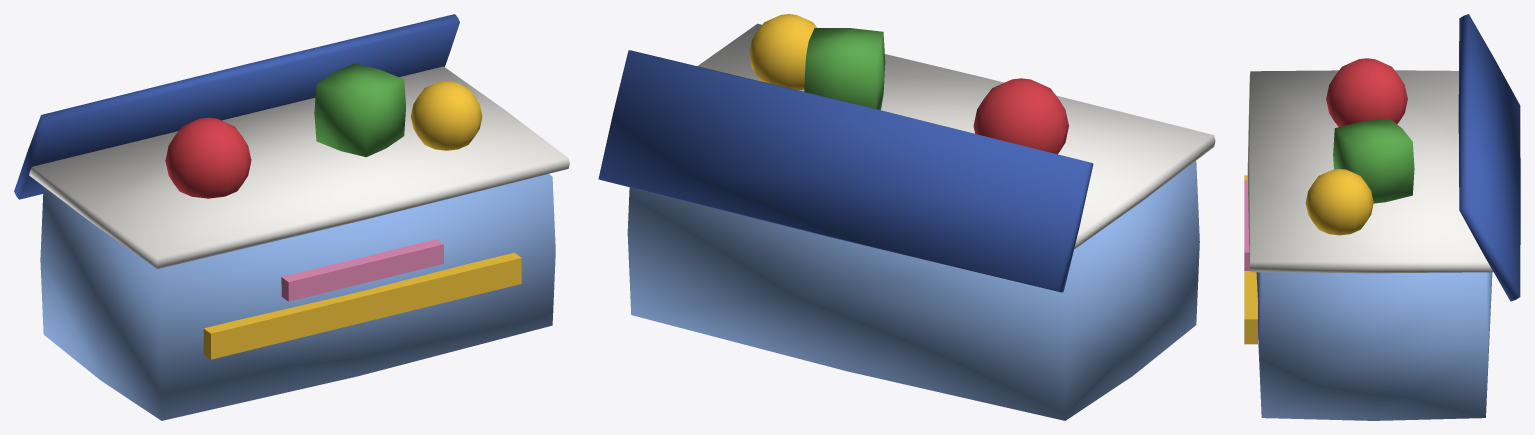
Rendered from toy_box.glb.
3 renders of one model, left to right at view 1: azimuth 30°, elevation 25°; view 2: azimuth 150°, elevation 25°; view 3: azimuth 270°, elevation 25°, orthographic. The views are drawn at different scales.
Visible parts, largest first — view 1: root; view 2: root; view 3: root.
Part boxes in pixels (x1,y1,x2,y2): root: (14, 14, 569, 420); root: (598, 14, 1215, 420); root: (1244, 14, 1520, 420).
Size of the model in its own units: 1.34 by 0.75 by 0.811.
